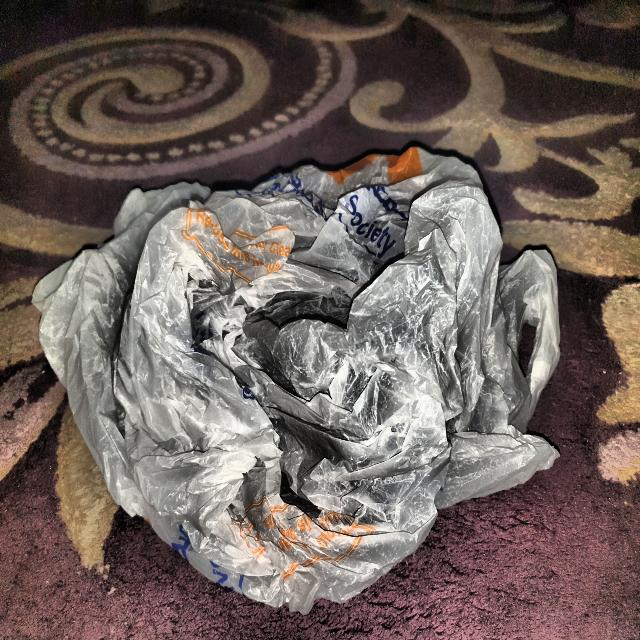plastic bag: (16, 139, 572, 624)
